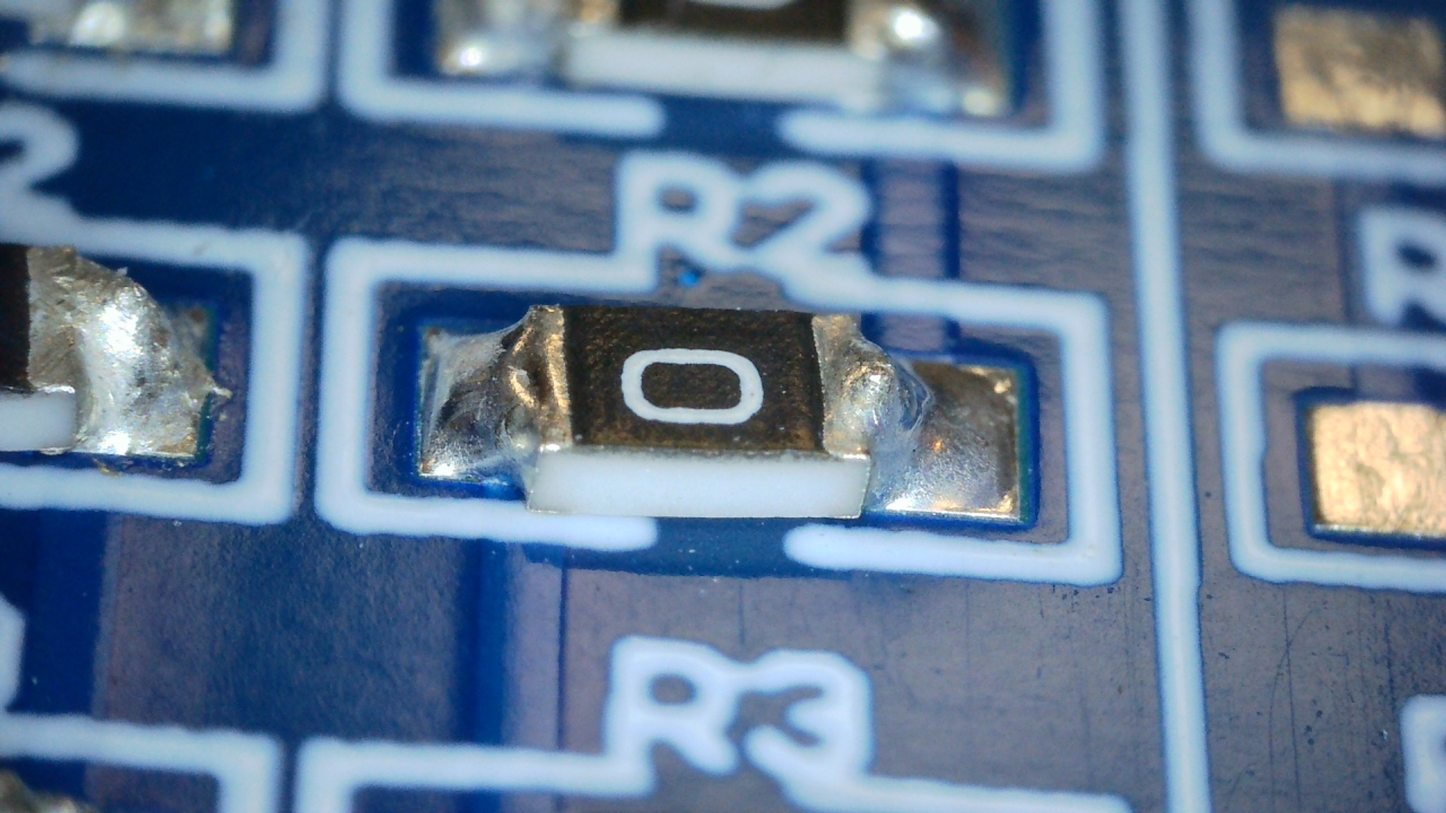NG: (815, 316, 928, 508), (847, 361, 902, 439)
OK: (422, 303, 574, 478)
